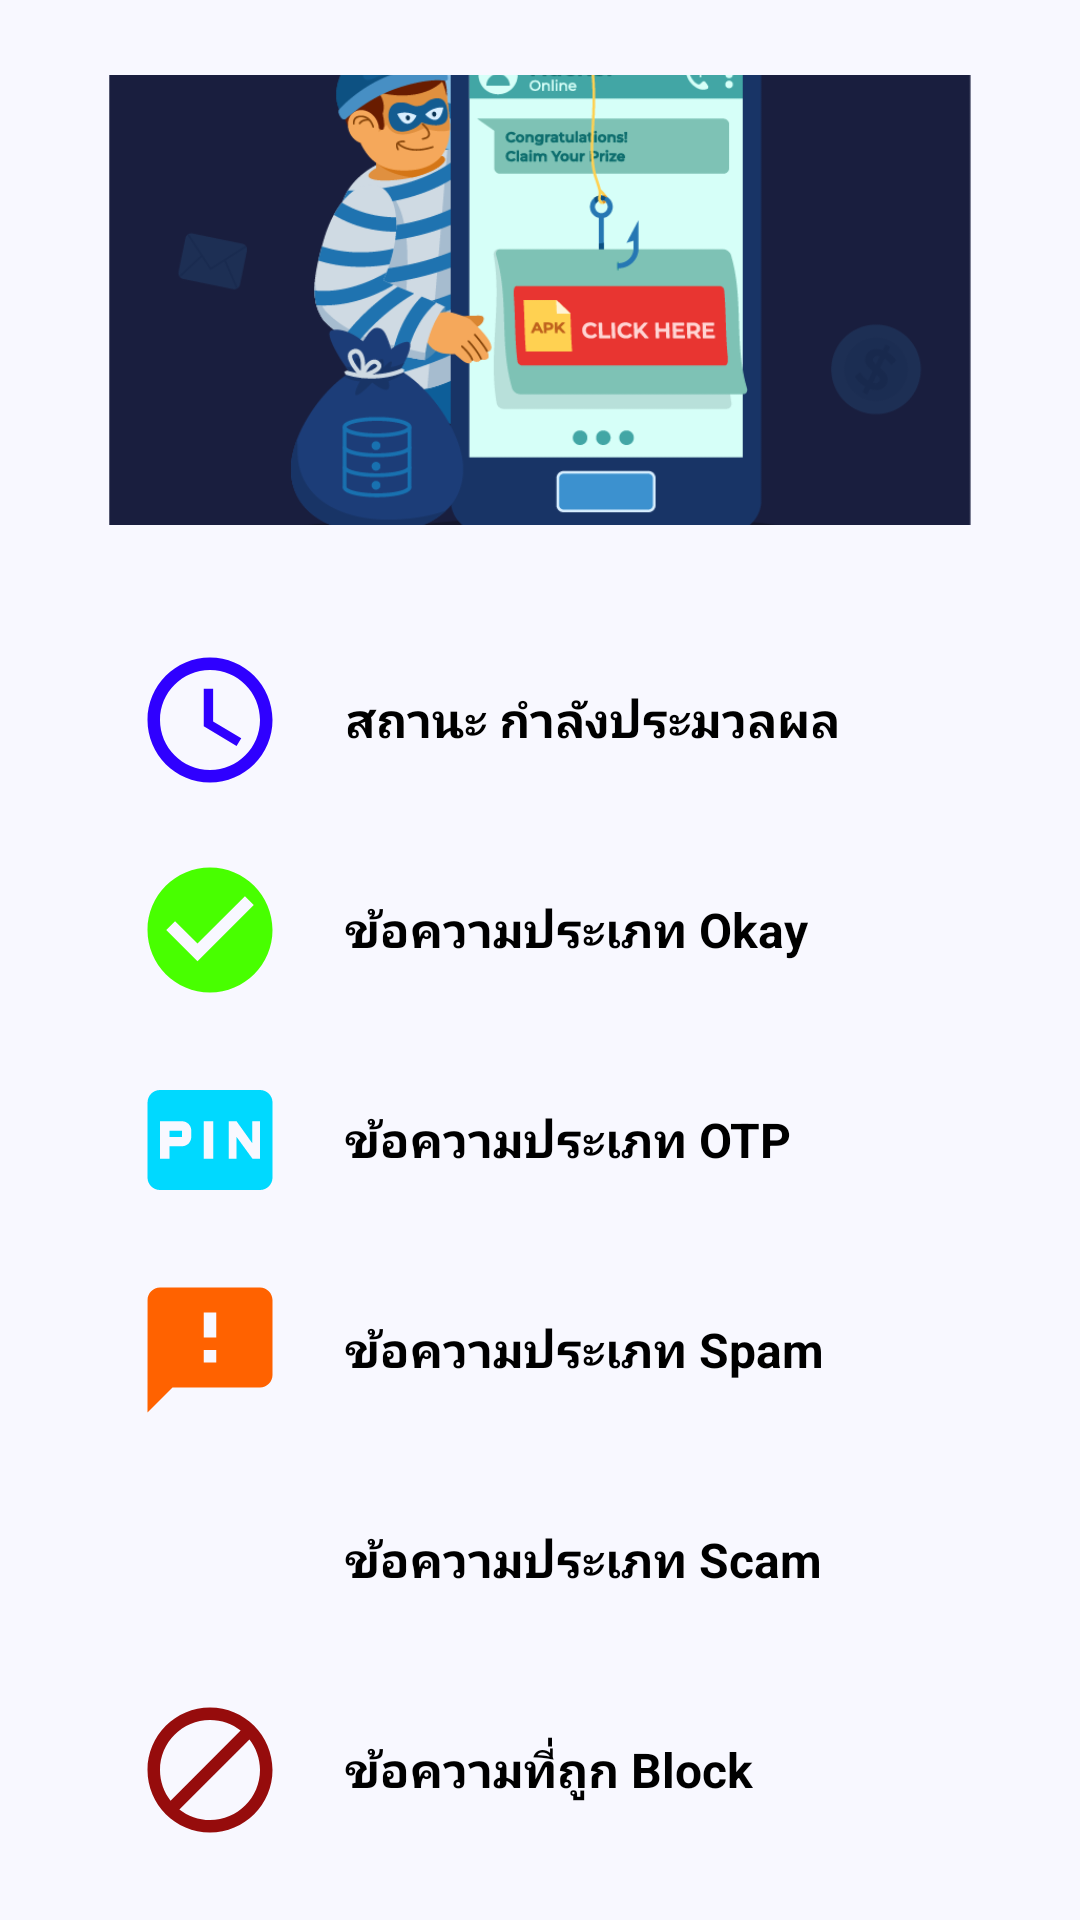

Locate icon controls on the screen. Image size 1080px x 1920px, boxes as [x1=x1, y1=y1, x2=x2, y2=y2].
okay sphere: [x1=147, y1=867, x2=273, y2=993]
spams: [x1=147, y1=1287, x2=273, y2=1413]
waiting: [x1=147, y1=657, x2=273, y2=783]
